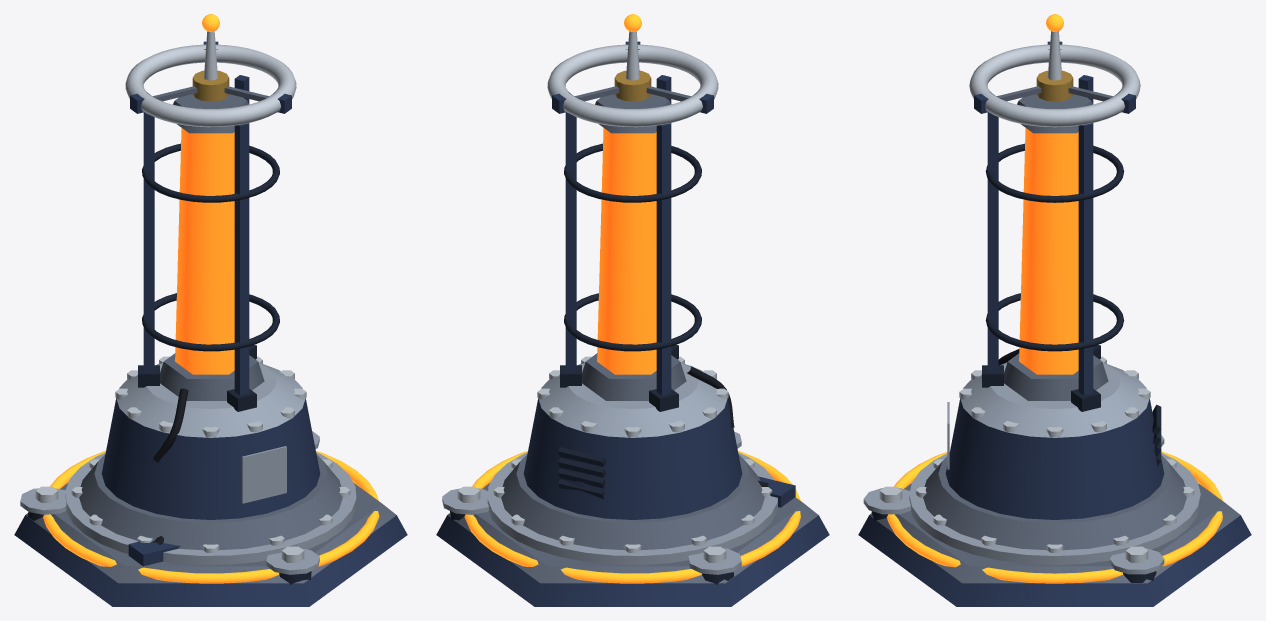
File: tower_overclock_chassis.glb
The picture shows the model from 3 angles, left to right: view 1: azimuth 30°, elevation 25°; view 2: azimuth 150°, elevation 25°; view 3: azimuth 270°, elevation 25°; orthographic projection.
Parts seen in each view (by area): view 1: overclock_base_drum, overclock_core, overclock_baseplate, overclock_collar, overclock_base_cap, overclock_ring, overclock_baseplate_bevel, overclock_flange, overclock_seam, overclock_cage_post2, overclock_cage_post0, overclock_core_base (+12 smaller); view 2: overclock_base_drum, overclock_core, overclock_baseplate, overclock_collar, overclock_base_cap, overclock_ring, overclock_flange, overclock_baseplate_bevel, overclock_cage_post0, overclock_seam, overclock_cage_post1, overclock_core_base (+11 smaller); view 3: overclock_base_drum, overclock_core, overclock_baseplate, overclock_collar, overclock_base_cap, overclock_ring, overclock_flange, overclock_baseplate_bevel, overclock_seam, overclock_cage_post1, overclock_cage_post2, overclock_core_base (+9 smaller).
Part boxes in pixels (x1,y1,x2,y2): overclock_base_drum: (101, 398, 320, 519); overclock_core: (175, 128, 234, 374); overclock_baseplate: (14, 515, 407, 606); overclock_collar: (79, 454, 342, 550); overclock_base_cap: (116, 362, 305, 437); overclock_ring: (125, 44, 296, 127); overclock_baseplate_bevel: (25, 482, 396, 583); overclock_flange: (65, 452, 356, 564); overclock_seam: (43, 450, 379, 583); overclock_cage_post2: (234, 123, 249, 395); overclock_cage_post0: (143, 112, 154, 372); overclock_core_base: (160, 353, 264, 400); overclock_base_drum: (523, 398, 742, 519); overclock_core: (597, 128, 656, 374); overclock_baseplate: (436, 515, 829, 606); overclock_collar: (501, 454, 764, 550); overclock_base_cap: (538, 362, 727, 437); overclock_ring: (547, 44, 718, 127); overclock_flange: (487, 452, 777, 564); overclock_baseplate_bevel: (447, 482, 818, 583); overclock_cage_post0: (656, 123, 671, 395); overclock_seam: (464, 450, 800, 583); overclock_cage_post1: (565, 112, 576, 372); overclock_core_base: (582, 353, 686, 400); overclock_base_drum: (945, 398, 1164, 519); overclock_core: (1019, 128, 1078, 374); overclock_baseplate: (858, 515, 1251, 606); overclock_collar: (923, 455, 1186, 550); overclock_base_cap: (960, 362, 1149, 437); overclock_ring: (969, 44, 1140, 127); overclock_flange: (909, 453, 1200, 565); overclock_baseplate_bevel: (869, 483, 1240, 583); overclock_seam: (887, 451, 1222, 583); overclock_cage_post1: (1078, 123, 1093, 395); overclock_cage_post2: (987, 112, 998, 372); overclock_core_base: (1004, 353, 1108, 400).
Bounding box in the file's own units: 1.87 × 3.15 × 2.16.
